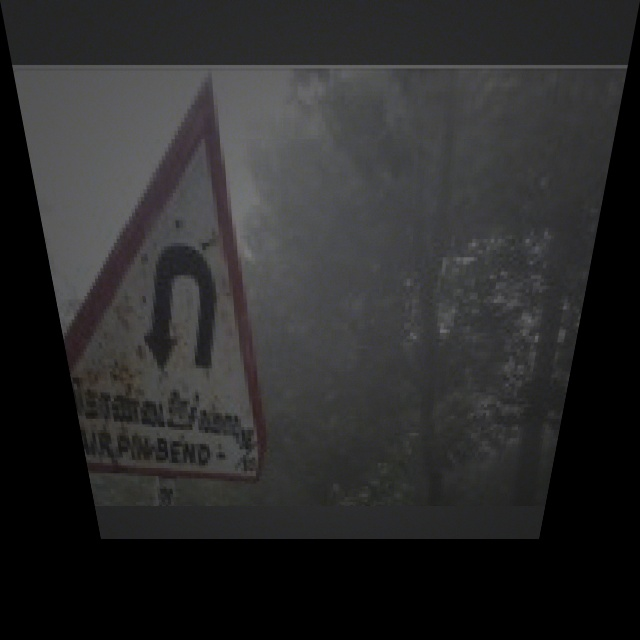Left_Hair_Pin_Bend: (107, 211, 237, 375)
